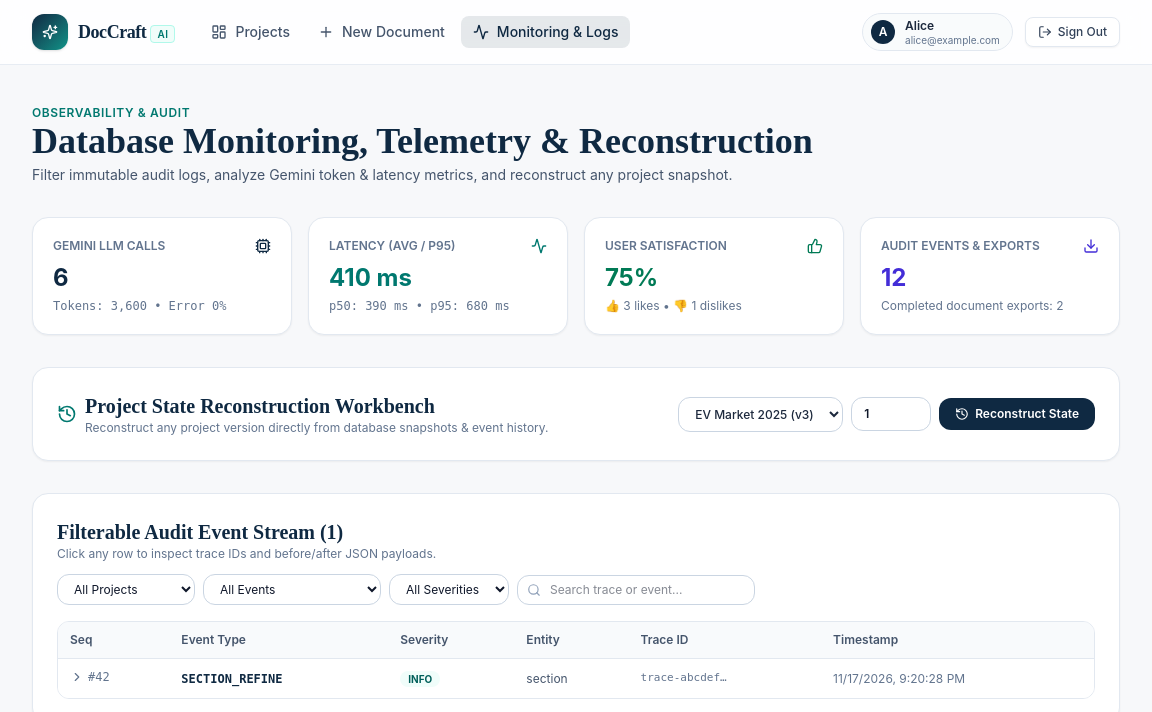
Test: Monitoring, Audit Logs & Reconstruction Console › renders analytics, filters audit logs, expands JSON diff, and reconstructs state
The width and height of the screenshot is (1152, 712).
Expected: the text "75%" is shown, [605,263,658,292]
// Expand audit row to view before/after JSON
Click the text "#42": click(90, 677) [70,669,110,685]
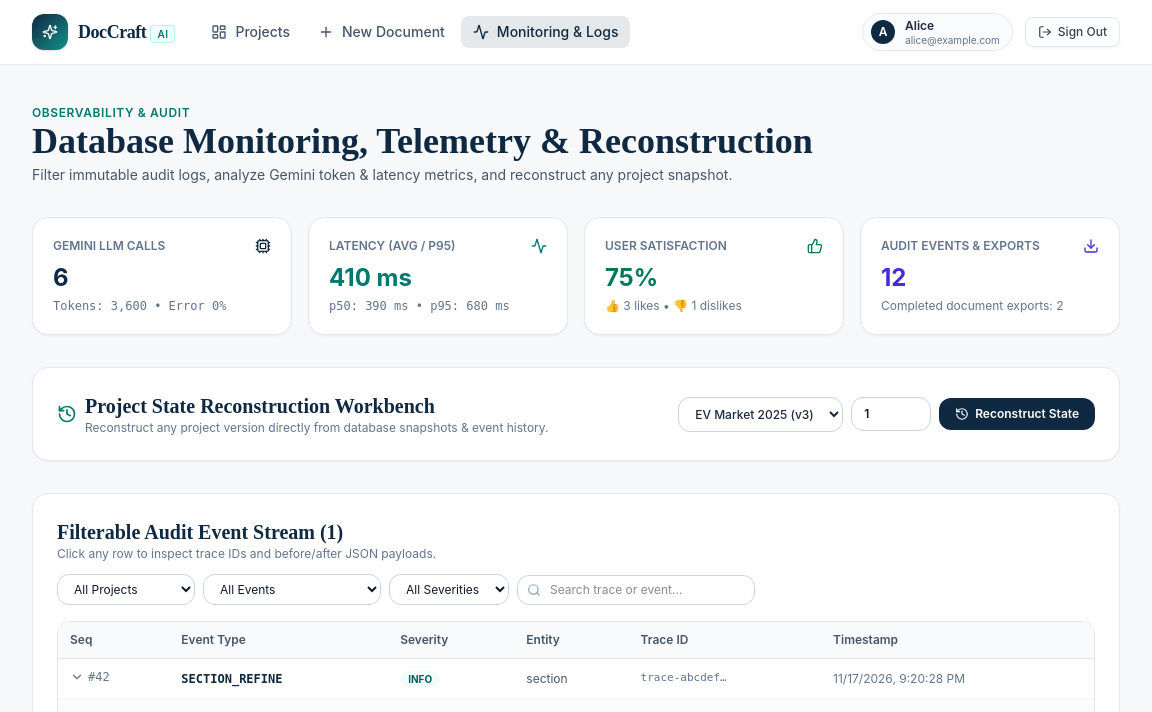
// Filter by event type
Select "SECTION_REFINE" in the dropdown named "Filter by event type": (292, 590) [203,574,381,605]
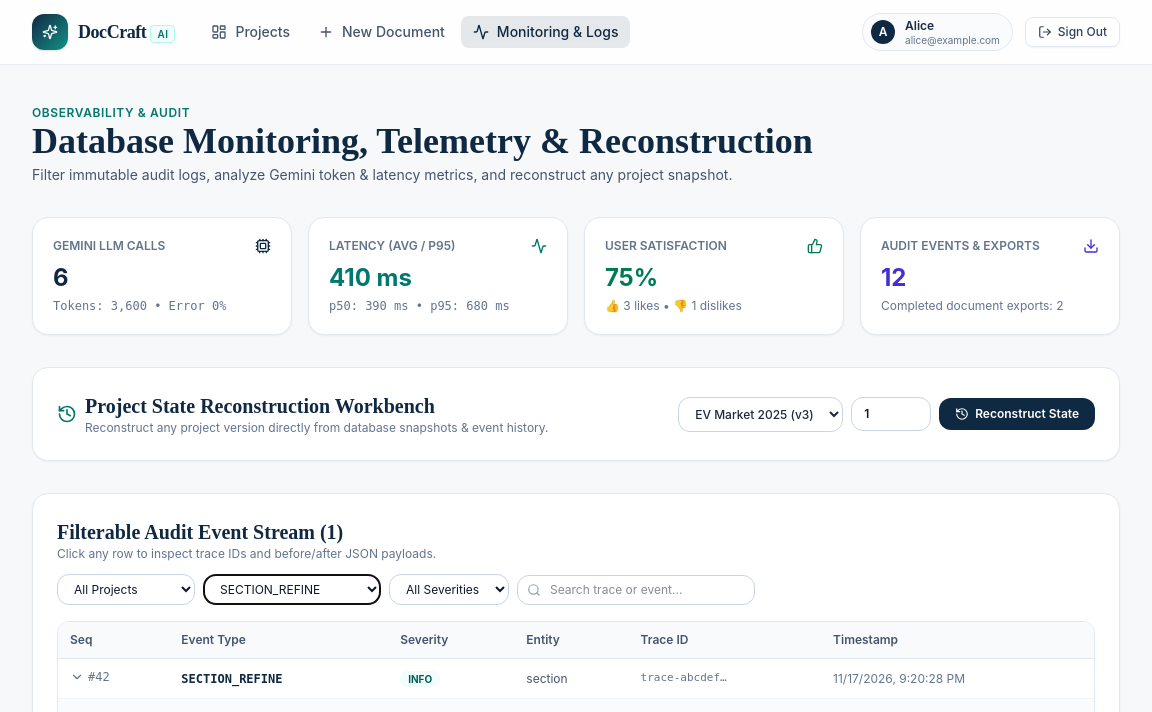
// Reconstruct state
Click the button "Reconstruct State": click(1017, 414) [939,398,1095,430]
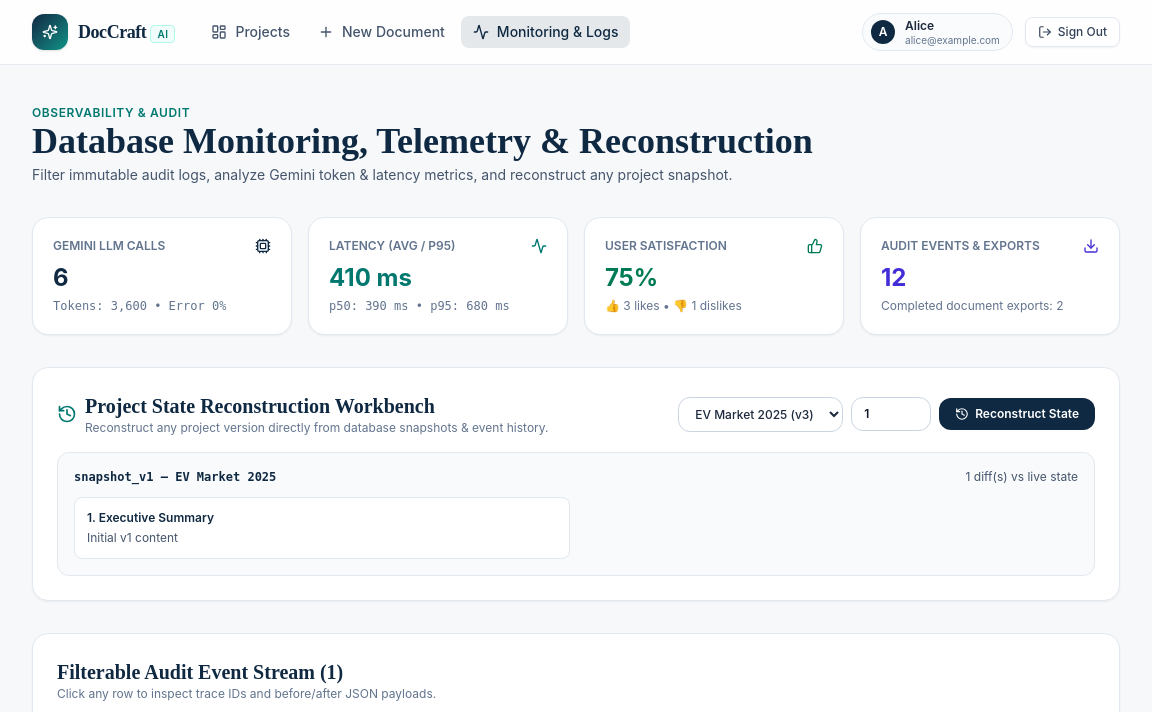
Expected: the text "Initial v1 content" is shown, [87,530,178,545]
